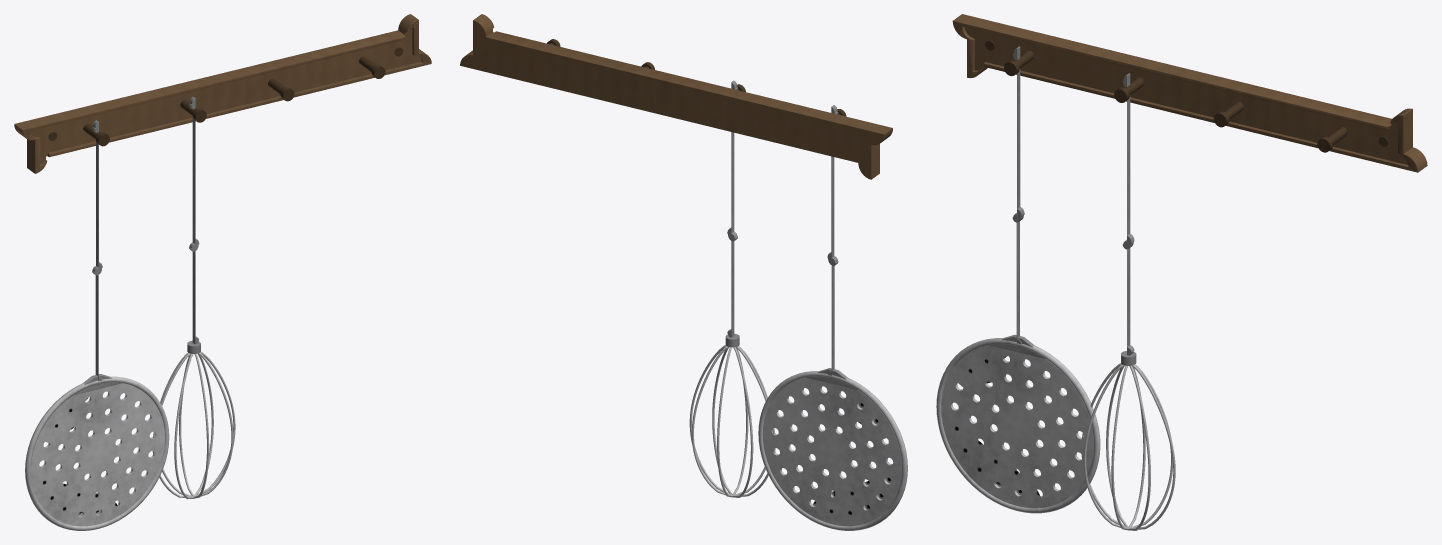
The model's file is estante utencilios.fbx.
The picture shows the model from 3 angles, left to right: view 1: azimuth 30°, elevation 25°; view 2: azimuth 150°, elevation 25°; view 3: azimuth 330°, elevation 25°; orthographic projection. The views are drawn at different scales.
Visible parts, largest first — view 1: Riel, Espumadera_cuchara, Espumadera_borde, Batidor_alambre_2, Batidor_alambre_3, Batidor_alambre_1, Batidor_alambre_4, Batidor_varilla.001, Batidor_varilla.002; view 2: Riel, Espumadera_cuchara, Espumadera_borde, Batidor_alambre_4, Batidor_alambre_3, Batidor_alambre_1, Batidor_alambre_2; view 3: Riel, Espumadera_cuchara, Espumadera_borde, Batidor_alambre_4, Batidor_alambre_2, Batidor_alambre_1, Batidor_alambre_3, Batidor_varilla.001, Batidor_varilla.002.
Boxes of the visible parts, x1,y1,x2,y2 form: Riel: [14, 14, 431, 173]; Espumadera_cuchara: [31, 383, 164, 526]; Espumadera_borde: [25, 376, 169, 530]; Batidor_alambre_2: [174, 353, 213, 499]; Batidor_alambre_3: [179, 354, 209, 498]; Batidor_alambre_1: [152, 351, 235, 497]; Batidor_alambre_4: [160, 352, 233, 496]; Batidor_varilla.001: [189, 96, 199, 250]; Batidor_varilla.002: [92, 120, 102, 274]; Riel: [460, 14, 892, 179]; Espumadera_cuchara: [762, 377, 901, 526]; Espumadera_borde: [758, 371, 907, 530]; Batidor_alambre_4: [712, 347, 753, 497]; Batidor_alambre_3: [717, 347, 748, 497]; Batidor_alambre_1: [689, 345, 775, 496]; Batidor_alambre_2: [691, 346, 767, 495]; Riel: [952, 14, 1427, 172]; Espumadera_cuchara: [941, 345, 1093, 508]; Espumadera_borde: [936, 338, 1100, 513]; Batidor_alambre_4: [1106, 365, 1150, 530]; Batidor_alambre_2: [1083, 364, 1172, 527]; Batidor_alambre_1: [1081, 363, 1175, 529]; Batidor_alambre_3: [1111, 366, 1145, 530]; Batidor_varilla.001: [1122, 73, 1134, 248]; Batidor_varilla.002: [1013, 46, 1024, 222].
Bounding box in the file's own units: 45.59 × 44.33 × 5.97.
4 materials, 4 textured.
